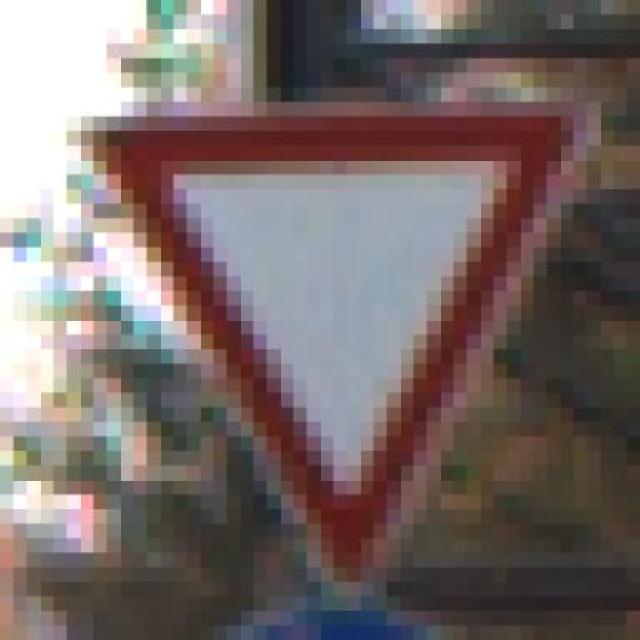Give Way: (26, 87, 614, 596)
